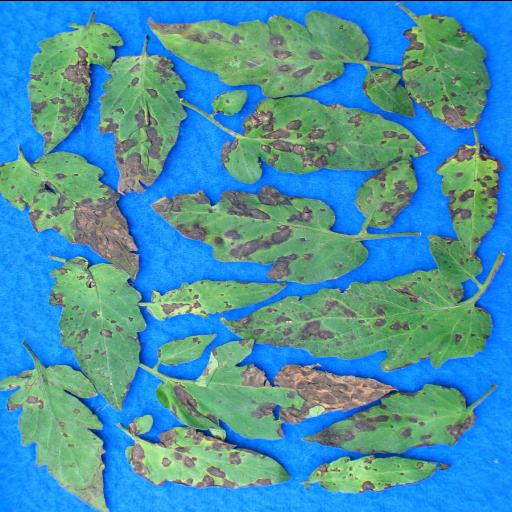Early Blight: (219, 264, 494, 366), (156, 338, 394, 442), (154, 186, 372, 280), (147, 10, 371, 98), (0, 145, 136, 278), (226, 100, 436, 182), (2, 362, 106, 510), (49, 252, 143, 402), (100, 53, 188, 199), (304, 382, 476, 454), (26, 18, 116, 150), (111, 426, 295, 487), (400, 11, 488, 129), (435, 129, 505, 257), (141, 278, 287, 323), (302, 452, 452, 494), (355, 160, 417, 226), (159, 332, 225, 374), (360, 68, 414, 113)
